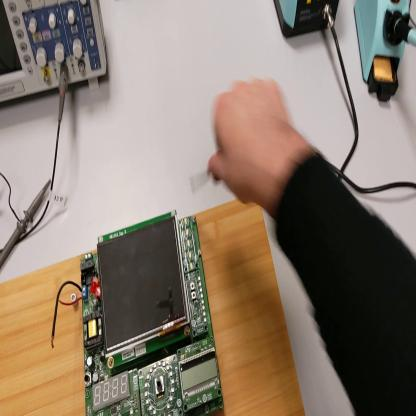hand: (208, 75, 297, 213)
low voltage board: (52, 213, 225, 416)
oscilloscope: (2, 3, 108, 105)
oscilloscope probe tip: (1, 179, 53, 269)
screwdriver-: (193, 170, 216, 192)
welder base: (354, 2, 413, 107)
welder probe tip: (399, 21, 416, 46)
welder station: (274, 3, 341, 37)
working area: (2, 202, 306, 415)
